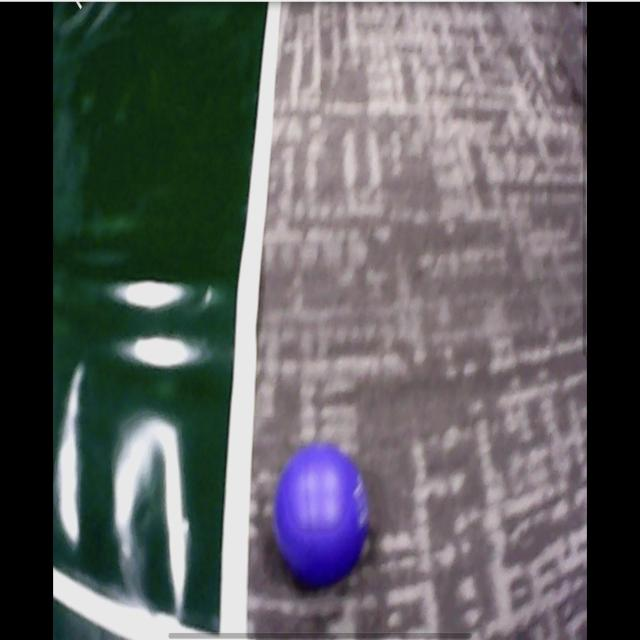ball: (275, 444, 368, 588)
